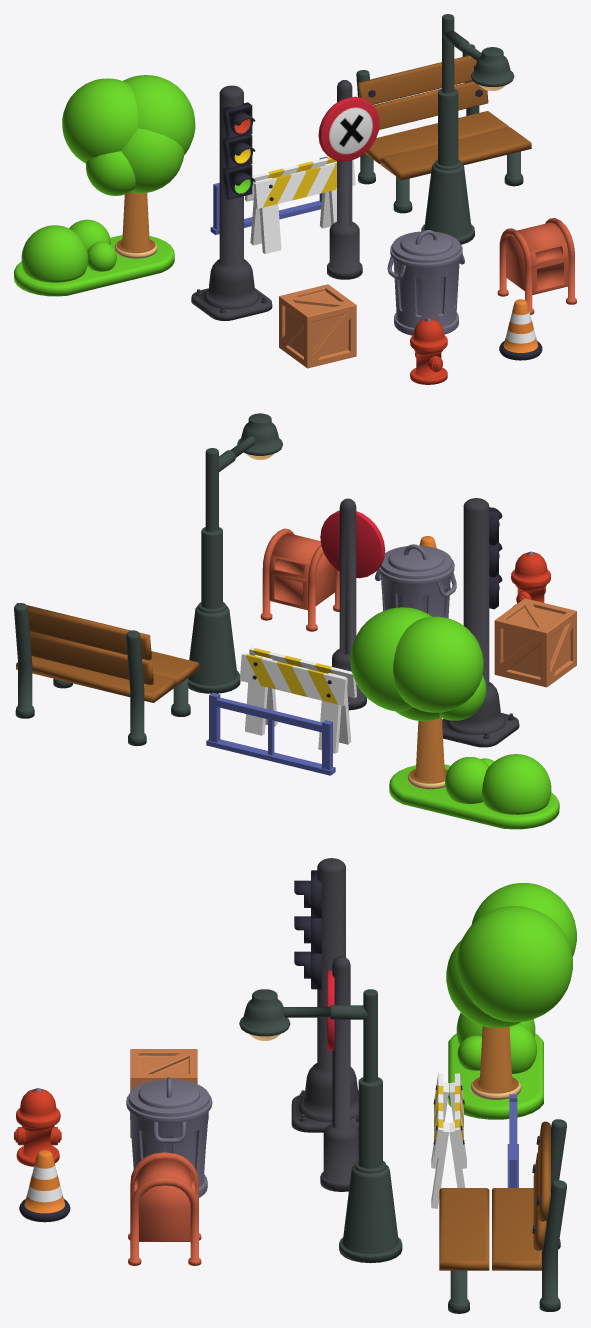
File: street-pack.glb
The picture shows the model from 3 angles, top to bottom: view 1: azimuth 30°, elevation 25°; view 2: azimuth 150°, elevation 25°; view 3: azimuth 270°, elevation 25°; orthographic projection. The views are drawn at different scales.
Parts seen in each view (by area): view 1: Trees, Bench, Traffic Light, Street Light, Dustbin, Banner, Box, Mail Box, Barrier 2, Fire Hydrant, Traffic Cone, Barrier 1; view 2: Trees, Bench, Street Light, Traffic Light, Barrier 2, Box, Banner, Mail Box, Dustbin, Barrier 1, Fire Hydrant; view 3: Trees, Bench, Street Light, Traffic Light, Mail Box, Dustbin, Banner, Barrier 2, Fire Hydrant, Traffic Cone, Box, Barrier 1.
Part boxes in pixels (x1,y1,x2,y2): Trees: (14,75,195,296); Bench: (356,44,531,213); Traffic Light: (191,85,272,320); Street Light: (421,14,514,244); Dustbin: (387,230,464,335); Banner: (318,80,379,279); Box: (279,284,356,368); Mail Box: (497,218,576,314); Barrier 2: (245,157,355,253); Fire Hydrant: (410,318,447,384); Traffic Cone: (499,299,542,360); Barrier 1: (210,156,327,234); Trees: (350,607,559,829); Bench: (14,603,199,745); Street Light: (188,413,282,693); Traffic Light: (442,498,519,747); Barrier 2: (240,647,356,753); Box: (494,598,576,687); Banner: (320,498,385,710); Mail Box: (260,528,339,631); Dustbin: (375,544,456,618); Barrier 1: (206,692,335,775); Fire Hydrant: (511,551,550,606); Trees: (446,883,576,1119); Bench: (439,1119,566,1313); Street Light: (239,989,402,1263); Traffic Light: (291,858,358,1132); Mail Box: (128,1152,201,1265); Dustbin: (126,1077,212,1197); Banner: (320,956,358,1191); Barrier 2: (431,1073,466,1208); Fire Hydrant: (14,1088,61,1166); Traffic Cone: (19,1150,70,1222); Box: (130,1049,197,1138); Barrier 1: (507,1094,518,1187).
Bounding box in the file's own units: 3.3 × 1.42 × 2.8.
Materials: 13 (13 with a texture image).
